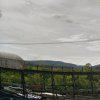Bridge: (9, 54, 94, 85)
